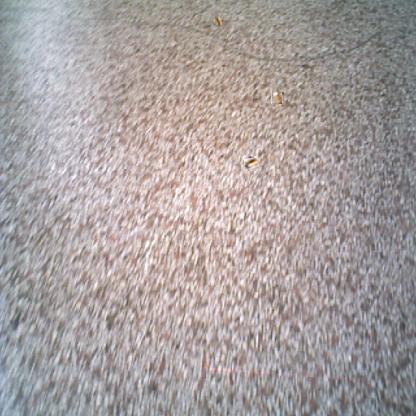dirty: (245, 157, 259, 170), (271, 91, 283, 104), (213, 16, 223, 26)
